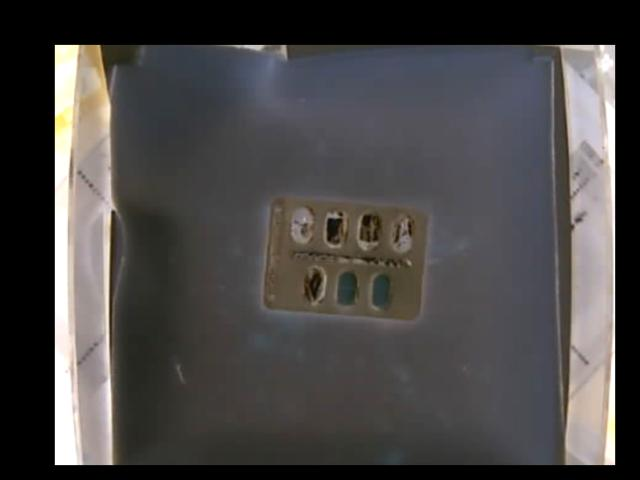Medicine: (261, 197, 428, 320)
